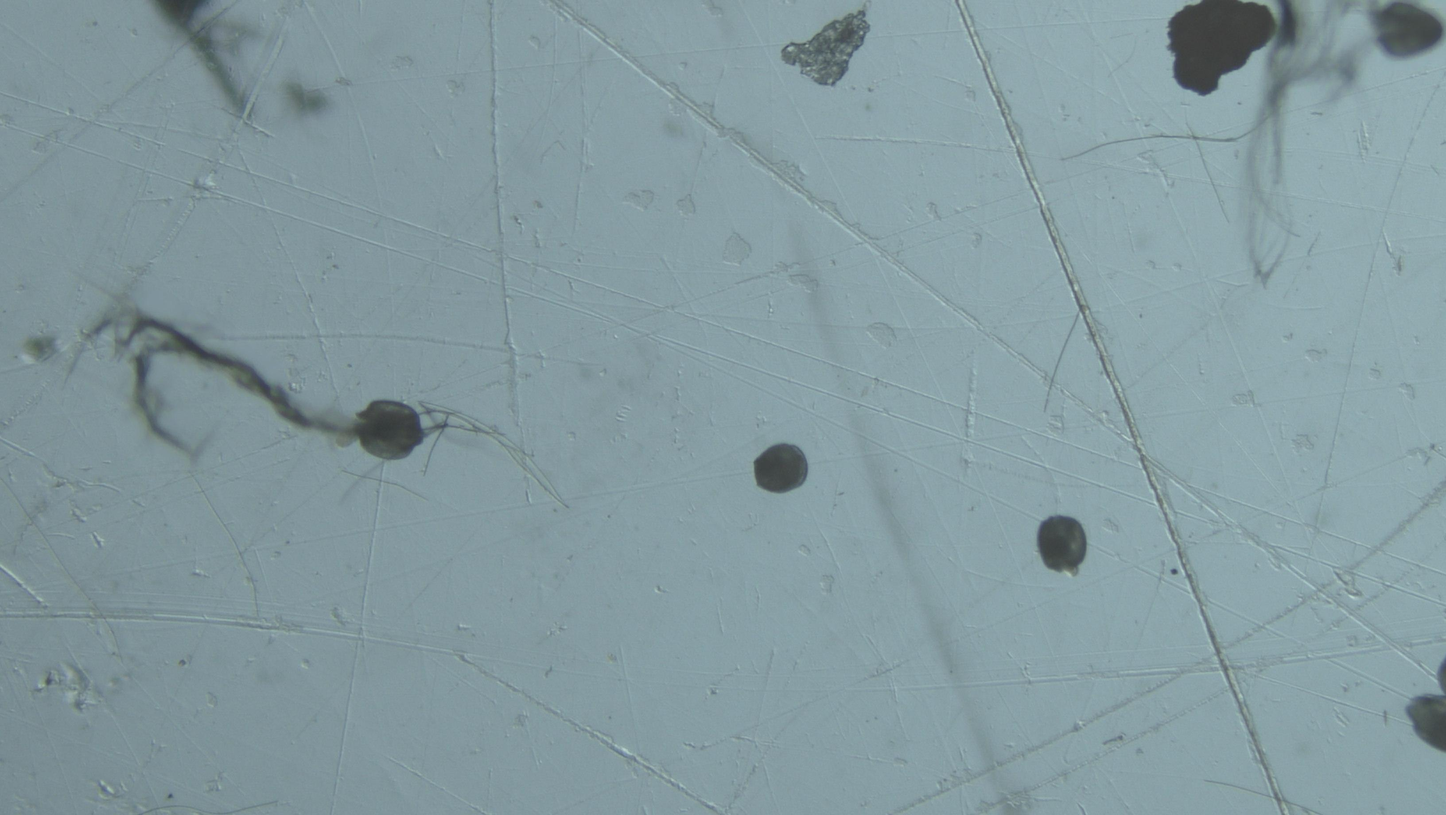live: (353, 400, 425, 461), (1036, 516, 1088, 576), (754, 443, 809, 494)
